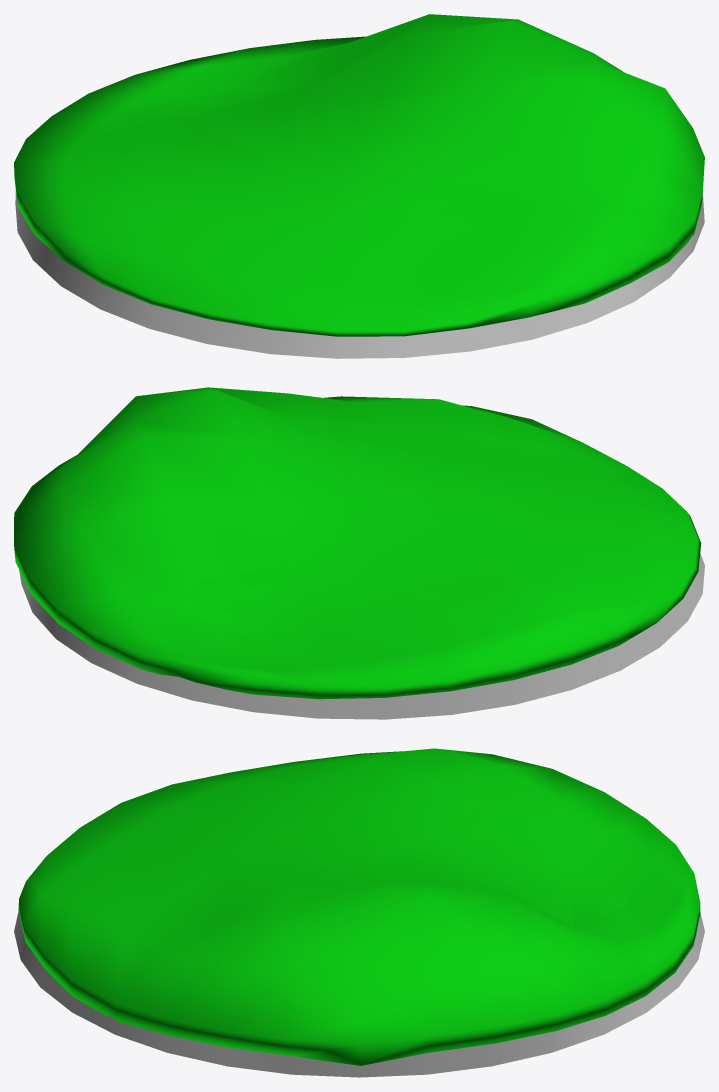
The model's file is Island.fbx.
3 views of the same model, one above another, from view 1: azimuth 30°, elevation 25°; view 2: azimuth 150°, elevation 25°; view 3: azimuth 270°, elevation 25° (orthographic).
Visible parts, largest first — view 1: Circle, Circle.001; view 2: Circle, Circle.001; view 3: Circle, Circle.001.
Part boxes in pixels (bbox=[...]): Circle: bbox=[14, 14, 704, 336]; Circle.001: bbox=[15, 191, 704, 358]; Circle: bbox=[14, 387, 701, 699]; Circle.001: bbox=[19, 553, 704, 719]; Circle: bbox=[18, 748, 700, 1065]; Circle.001: bbox=[14, 911, 704, 1077].
Size of the model in its own units: 7432 by 1419 by 7333.
